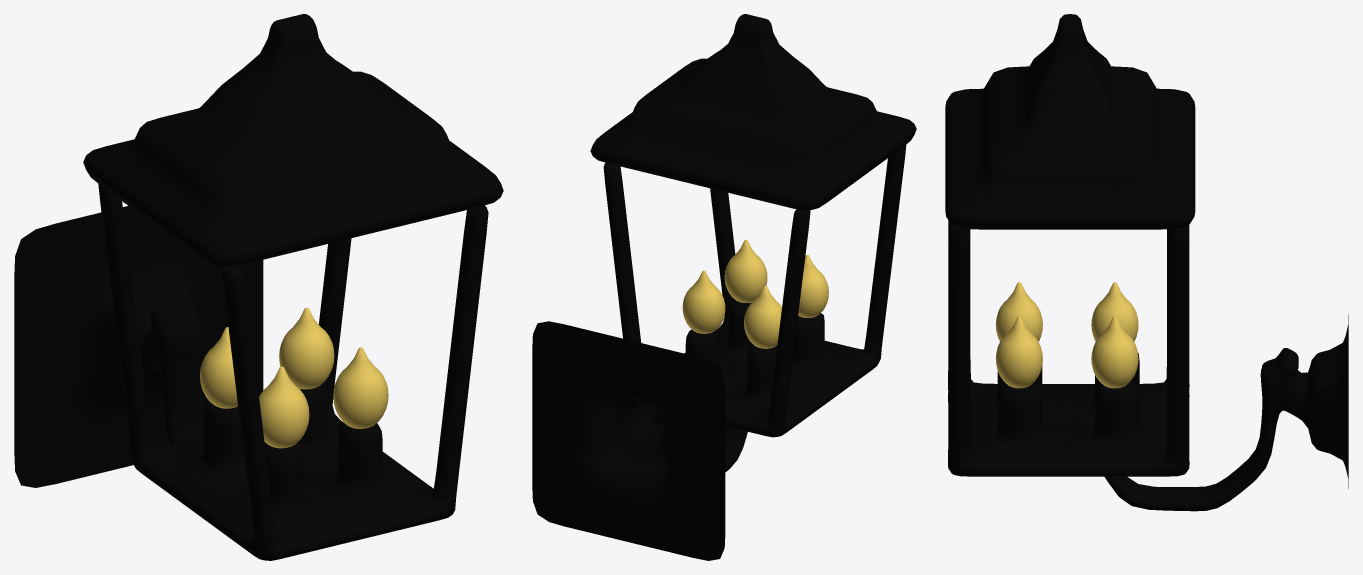
Rendered from lantern.fbx.
3 renders of one model, left to right at view 1: azimuth 30°, elevation 25°; view 2: azimuth 150°, elevation 25°; view 3: azimuth 270°, elevation 25°, orthographic. The views are drawn at different scales.
Visible parts, largest first — view 1: Cube.001, Cube, Plane, Sphere, Sphere.003, Sphere.001, Sphere.002; view 2: Plane, Cube.001, Cube, Sphere.003, Sphere, Sphere.002, Sphere.001; view 3: Cube.001, Cube, Plane, Sphere.003, Sphere, Sphere.002, Sphere.001.
Part boxes in pixels (x1=…): Cube.001: x1=83, y1=14, x2=503, y2=267; Cube: x1=98, y1=184, x2=488, y2=560; Plane: x1=14, y1=206, x2=263, y2=487; Sphere: x1=333, y1=347, x2=388, y2=428; Sphere.003: x1=279, y1=307, x2=334, y2=389; Sphere.001: x1=259, y1=366, x2=309, y2=448; Sphere.002: x1=200, y1=327, x2=237, y2=408; Plane: x1=532, y1=321, x2=747, y2=560; Cube.001: x1=590, y1=14, x2=916, y2=210; Cube: x1=603, y1=145, x2=906, y2=437; Sphere.003: x1=682, y1=270, x2=725, y2=333; Sphere: x1=724, y1=240, x2=767, y2=302; Sphere.002: x1=744, y1=285, x2=781, y2=348; Sphere.001: x1=798, y1=255, x2=828, y2=317; Cube.001: x1=945, y1=14, x2=1195, y2=229; Cube: x1=948, y1=220, x2=1189, y2=476; Plane: x1=1104, y1=314, x2=1348, y2=511; Sphere.003: x1=1091, y1=316, x2=1138, y2=388; Sphere: x1=995, y1=316, x2=1042, y2=388; Sphere.002: x1=1091, y1=282, x2=1138, y2=341; Sphere.001: x1=995, y1=282, x2=1042, y2=341.
Bounding box in the file's own units: 237 × 431 × 318.
